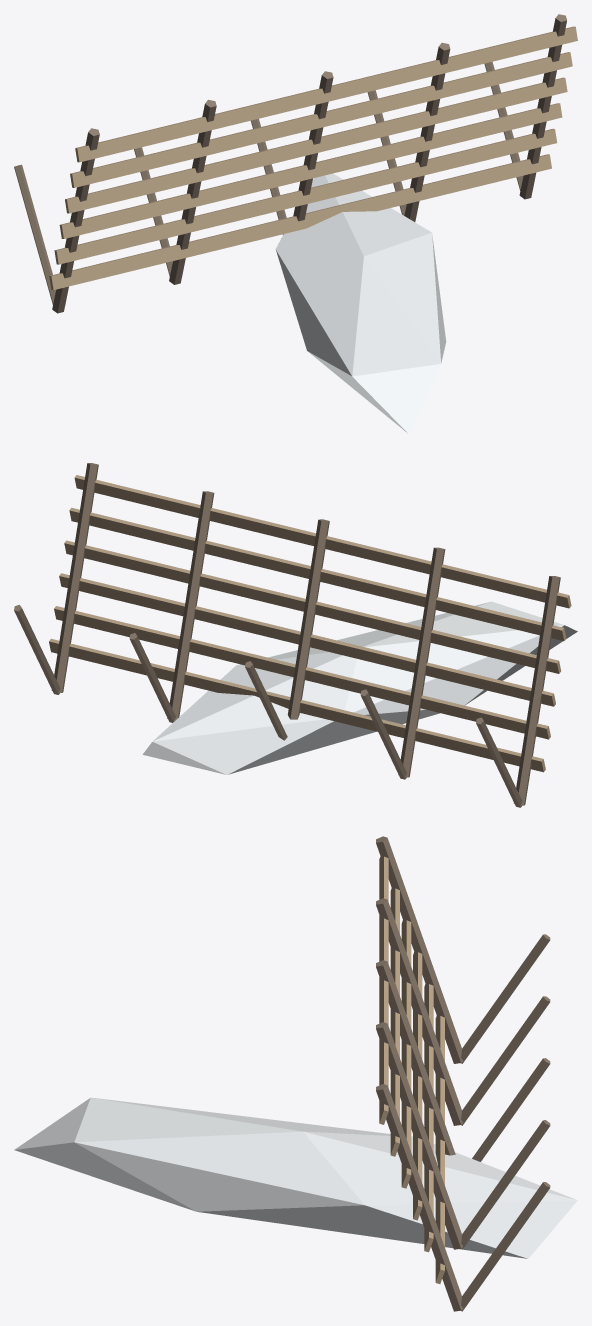
The model's file is SnowFence.glb.
3 views of the same model, one above another, from view 1: azimuth 30°, elevation 25°; view 2: azimuth 150°, elevation 25°; view 3: azimuth 270°, elevation 25° (orthographic). The views are drawn at different scales.
Visible parts, largest first — view 1: Drift.002, Slat.002, Slat.001, Slat.003, Slat.005, Slat.004, Slat, Limb.092, Limb.090, Limb.098, Limb.096, Limb.091 (+1 smaller); view 2: Drift.002, Slat.004, Slat.003, Slat.002, Slat.005, Slat.001, Slat, Limb.090, Limb.098, Limb.092, Limb.096, Limb.094 (+5 smaller); view 3: Drift.002, Limb.098, Limb.092, Limb.096, Limb.090, Limb.094, Slat.005, Slat.003, Slat.002, Slat.001, Slat.004, Slat (+5 smaller).
Part boxes in pixels (x1,y1,x2,y2): Drift.002: (275, 173, 446, 434); Slat.002: (59, 103, 562, 238); Slat.001: (54, 128, 557, 264); Slat.003: (65, 77, 567, 213); Slat.005: (75, 26, 577, 162); Slat.004: (70, 52, 572, 187); Slat: (49, 154, 551, 290); Limb.092: (169, 99, 216, 284); Limb.090: (52, 128, 99, 313); Limb.098: (519, 14, 566, 199); Limb.096: (404, 42, 450, 221); Limb.091: (14, 164, 55, 304); Drift.002: (142, 601, 577, 774); Slat.004: (69, 507, 566, 640); Slat.003: (64, 540, 560, 673); Slat.002: (59, 573, 555, 706); Slat.005: (74, 475, 571, 608); Slat.001: (54, 606, 550, 739); Slat: (49, 638, 545, 772); Limb.090: (514, 576, 560, 805); Limb.098: (51, 463, 98, 692); Limb.092: (398, 547, 445, 777); Limb.096: (167, 491, 214, 720); Limb.094: (287, 519, 329, 719); Drift.002: (14, 1097, 577, 1258); Limb.098: (376, 1084, 463, 1311); Limb.092: (376, 898, 463, 1125); Limb.096: (376, 1022, 463, 1249); Limb.090: (376, 836, 462, 1063); Limb.094: (376, 960, 455, 1155); Slat.005: (379, 856, 388, 1124); Slat.003: (401, 920, 411, 1188); Slat.002: (413, 952, 422, 1220); Slat.001: (424, 984, 433, 1252); Slat.004: (390, 888, 399, 1156); Slat: (435, 1016, 444, 1283).
Bounding box in the file's own units: 6.4 × 2.89 × 5.78.
